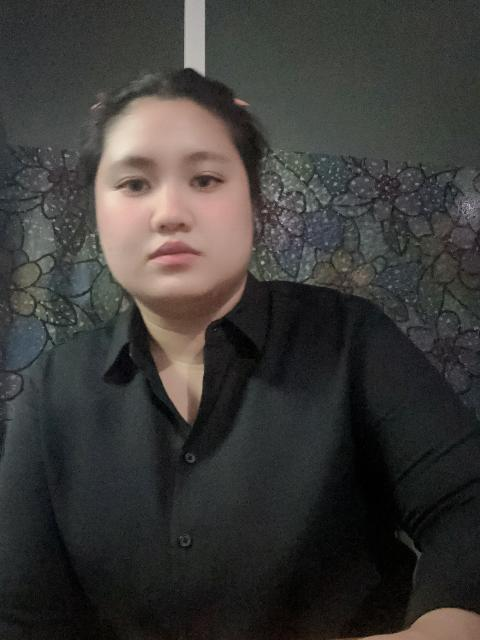fokus: (100, 97, 254, 301)
